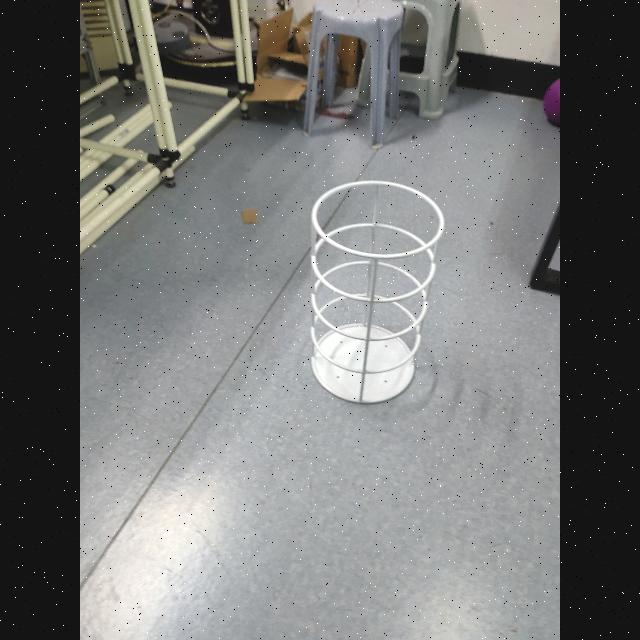S: (302, 176, 448, 408)
